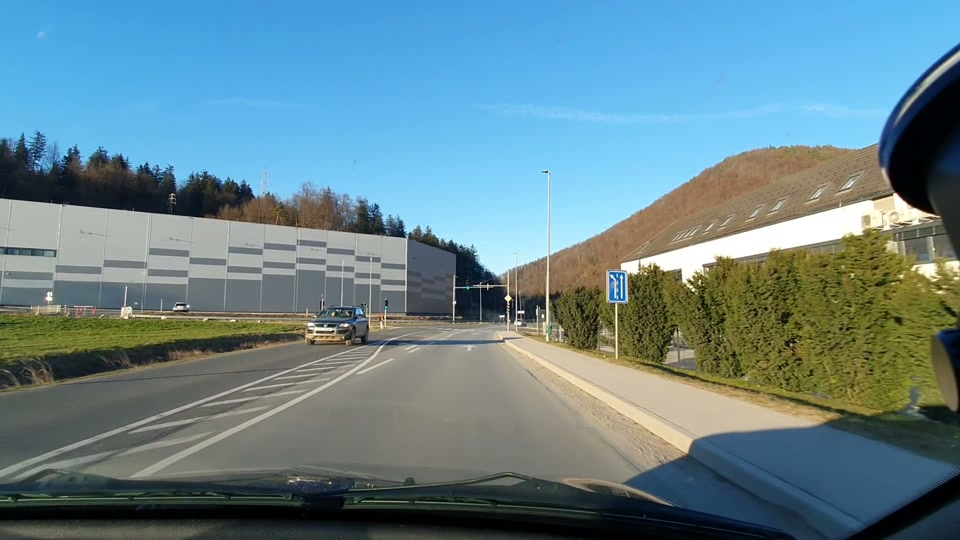vehicle_s: (300, 301, 376, 356)
